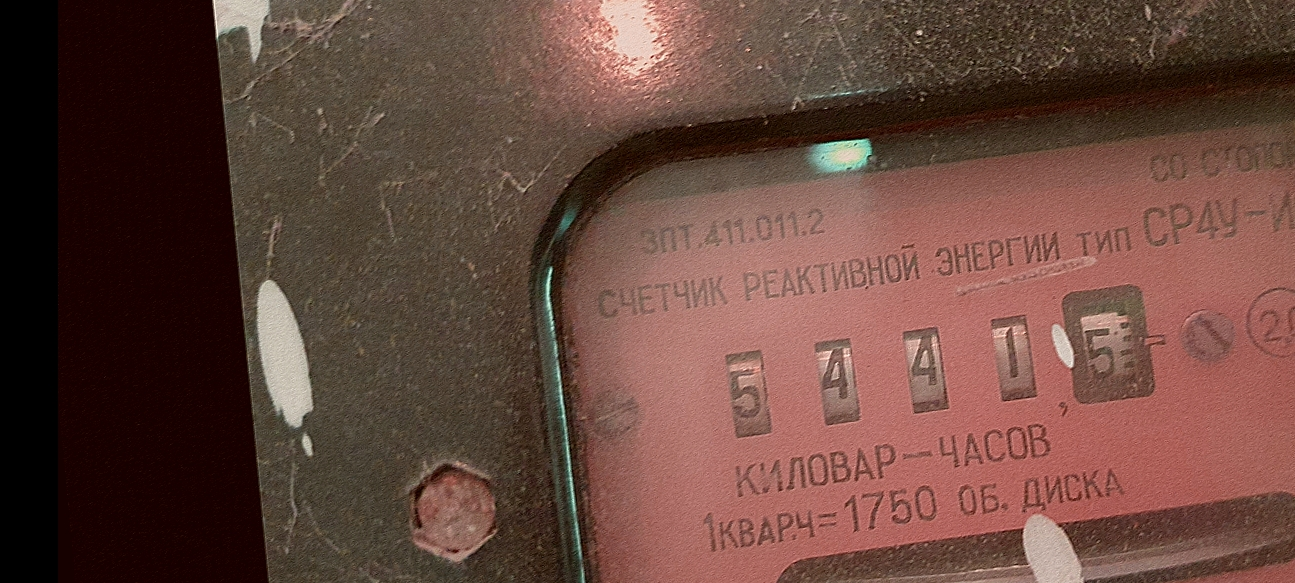1: (996, 322, 1026, 382)
4: (902, 326, 945, 395), (814, 340, 855, 405)
5: (1080, 319, 1121, 385), (724, 362, 767, 422)
screen: (696, 258, 1182, 467)
